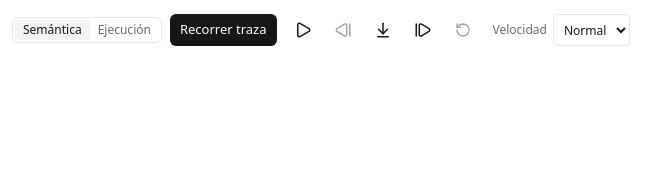
Test: recorrer la ejecución (T1) › elegir Ejecución y recorrer: ejecuta primero y empieza en la memoria inicial
Click the button "Ejecución": (124,30) [90,20,159,40]
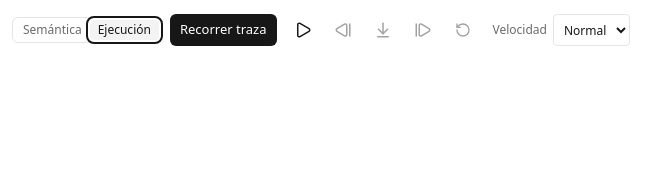
Click the button "Recorrer traza": (223,30) [170,14,276,46]
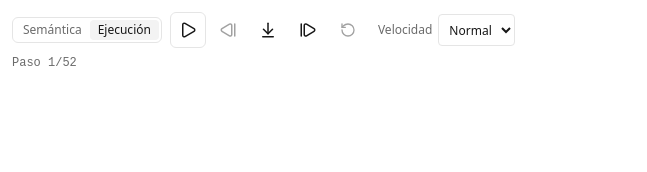
expect the text "Paso 1/52" is shown: met, box [12,56,77,70]
